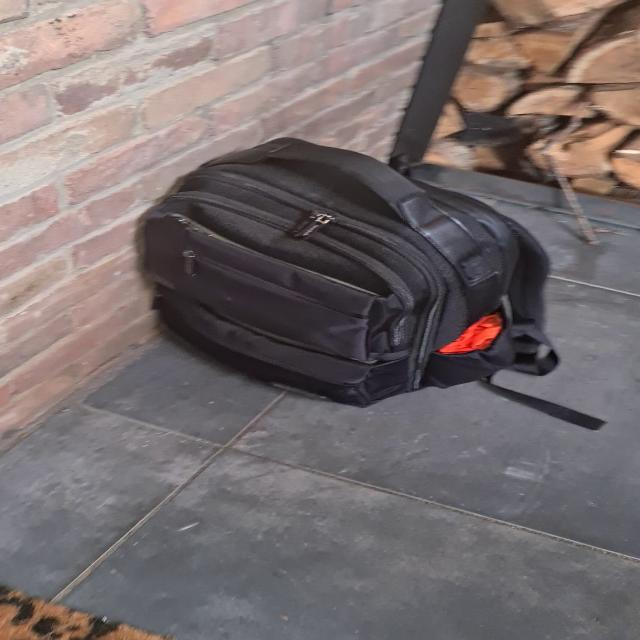backpack: (118, 126, 567, 412)
